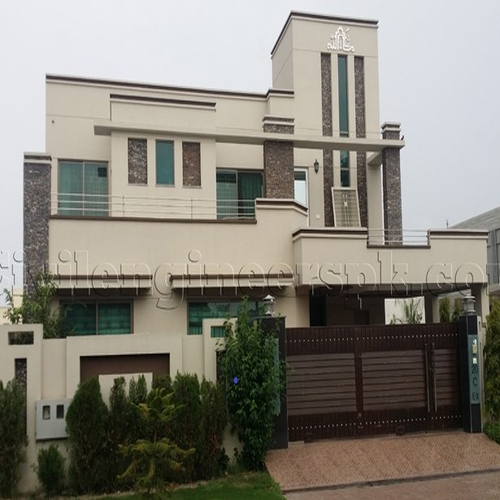Building House: (36, 10, 481, 436)
